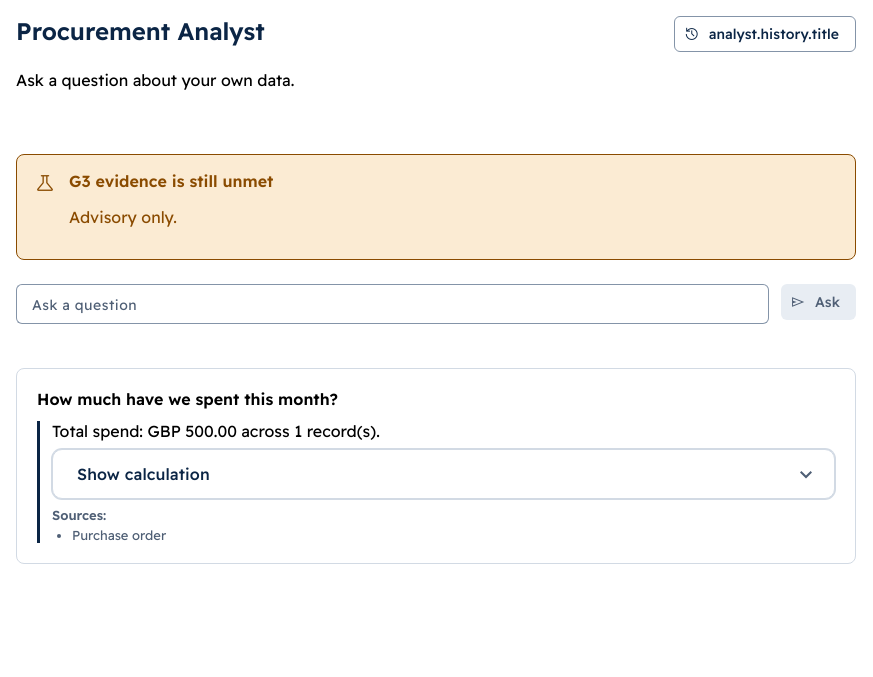
Test: AnalystConversationComponent (R4.2) › expands the calculation detail on click
Click the button "Show calculation": (143, 474) left=77, top=463, right=818, bottom=487
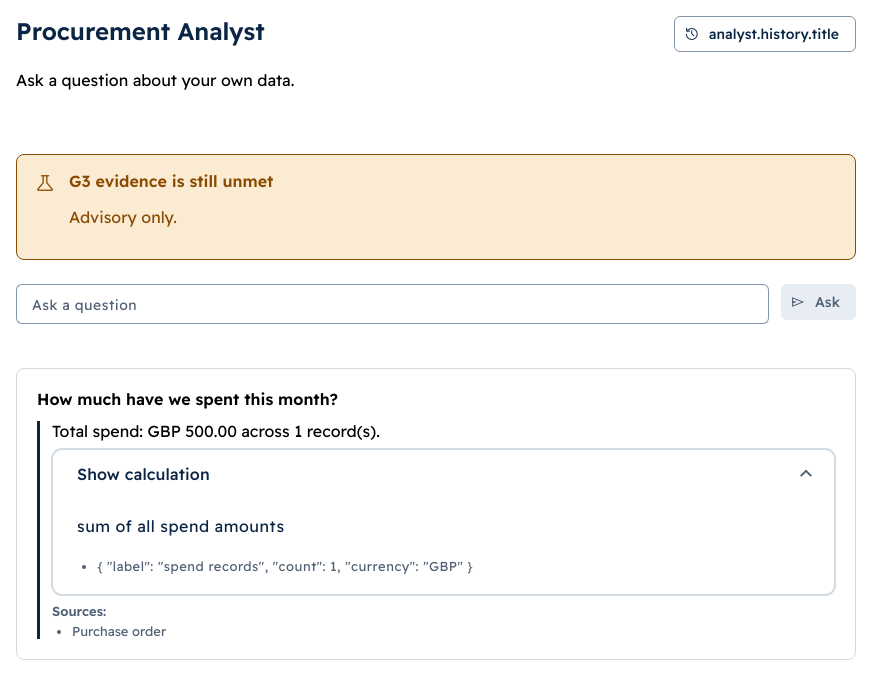
Expected: the text with class "formula" reads "sum of all spend amounts", left=77, top=516, right=284, bottom=536
